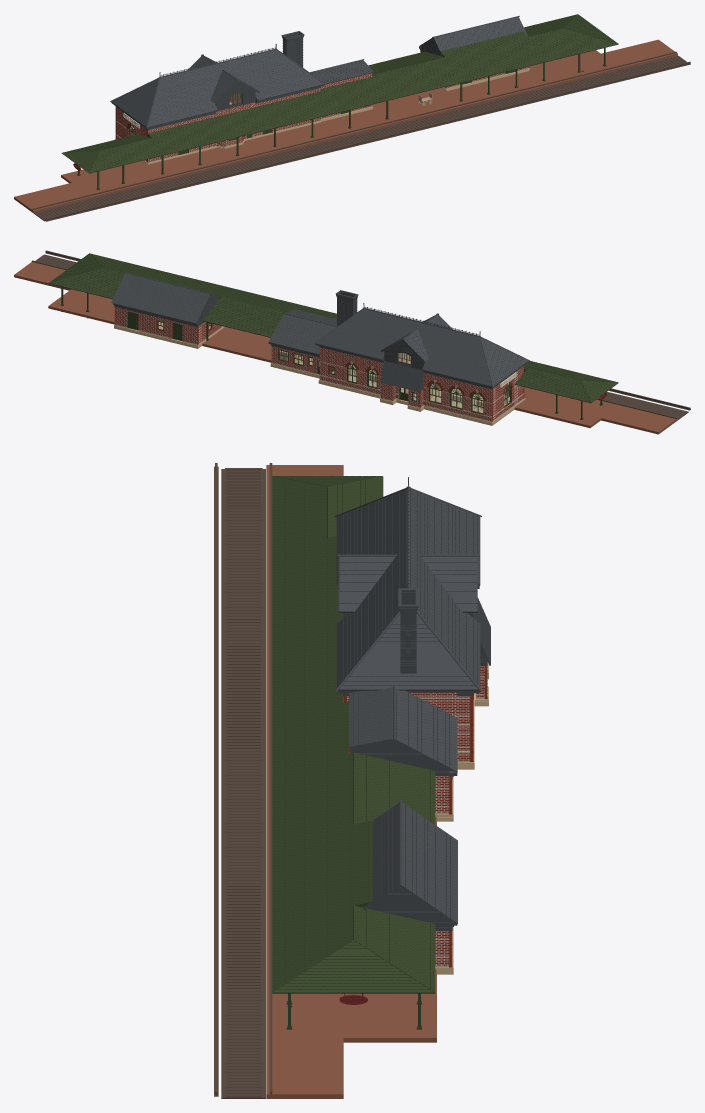
File: Janesville_Station_HO.glb
3 renders of one model, top to bottom at view 1: azimuth 30°, elevation 25°; view 2: azimuth 150°, elevation 25°; view 3: azimuth 270°, elevation 25°, orthographic. The views are drawn at different scales.
Parts seen in each view (by area): view 1: canopy, platform, roofs, track, brick, mortar, foundation, stone; view 2: roofs, canopy, platform, brick, mortar, windows, track, foundation, stone, fitout, interior; view 3: canopy, roofs, track, platform, brick, mortar.
Part boxes in pixels (<box>): canopy: <box>61,14,618,189</box>; platform: <box>14,39,677,212</box>; roofs: <box>110,16,527,129</box>; track: <box>31,51,690,221</box>; brick: <box>115,66,529,162</box>; mortar: <box>117,67,527,161</box>; foundation: <box>114,68,529,164</box>; stone: <box>116,68,529,163</box>; roofs: <box>111,272,529,391</box>; canopy: <box>48,253,618,419</box>; platform: <box>14,262,677,434</box>; brick: <box>114,307,524,421</box>; mortar: <box>115,307,523,420</box>; windows: <box>128,312,511,414</box>; track: <box>31,250,690,419</box>; foundation: <box>114,325,525,425</box>; stone: <box>114,324,524,422</box>; fitout: <box>158,322,509,413</box>; interior: <box>294,353,440,398</box>; canopy: <box>272,476,435,1029</box>; roofs: <box>335,477,490,930</box>; track: <box>214,463,272,1098</box>; platform: <box>266,465,436,1098</box>; brick: <box>343,666,487,967</box>; mortar: <box>343,666,487,965</box>.
Bounding box in the file's own units: 1.28 × 0.1609 × 0.239.
